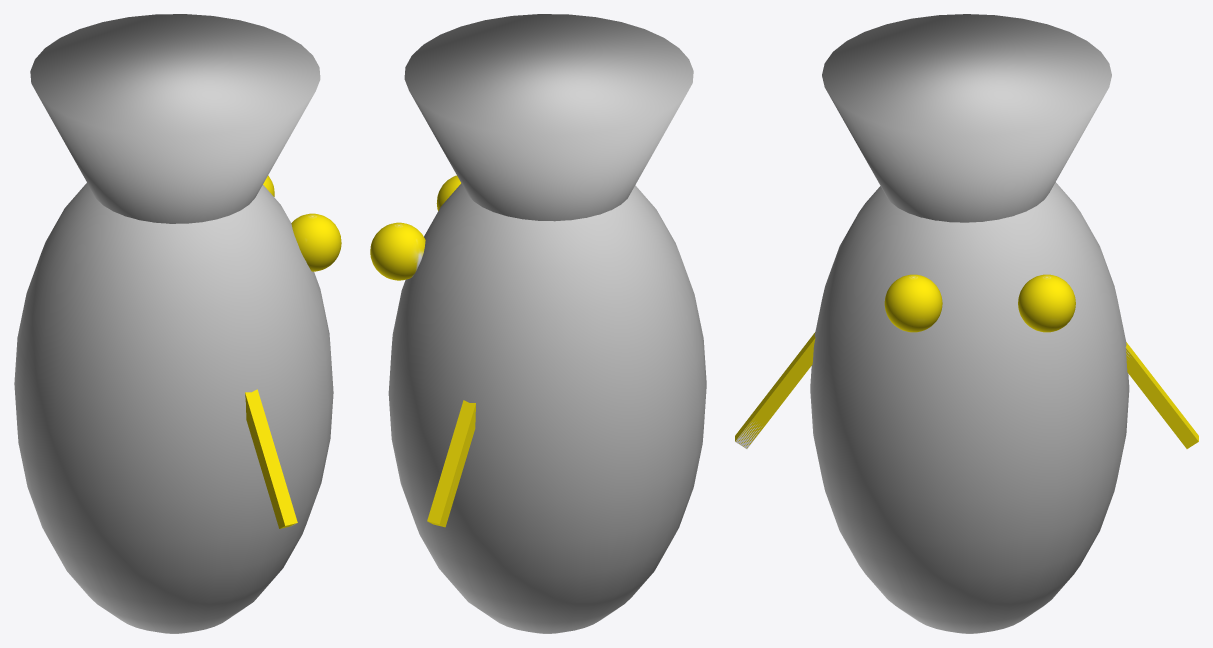
The model's file is enemy_2.obj.
3 views of the same model, side by side, from view 1: azimuth 30°, elevation 25°; view 2: azimuth 150°, elevation 25°; view 3: azimuth 270°, elevation 25° (orthographic).
Visible parts, largest first — view 1: 円錐, 立方体, 平面; view 2: 円錐, 平面, 立方体.001; view 3: 円錐, 平面, 立方体, 立方体.001.
Boxes of the visible parts, x1=… form: 円錐: x1=14, y1=14, x2=333, y2=633; 立方体: x1=245, y1=389, x2=297, y2=528; 平面: x1=263, y1=175, x2=341, y2=271; 円錐: x1=388, y1=14, x2=706, y2=633; 平面: x1=370, y1=175, x2=460, y2=280; 立方体.001: x1=427, y1=400, x2=475, y2=527; 円錐: x1=810, y1=14, x2=1129, y2=633; 平面: x1=884, y1=274, x2=1075, y2=332; 立方体: x1=735, y1=332, x2=815, y2=448; 立方体.001: x1=1125, y1=342, x2=1198, y2=448.
Bounding box in the file's own units: 2.2 × 4.18 × 3.2.
Materials: 3 (1 with a texture image).
